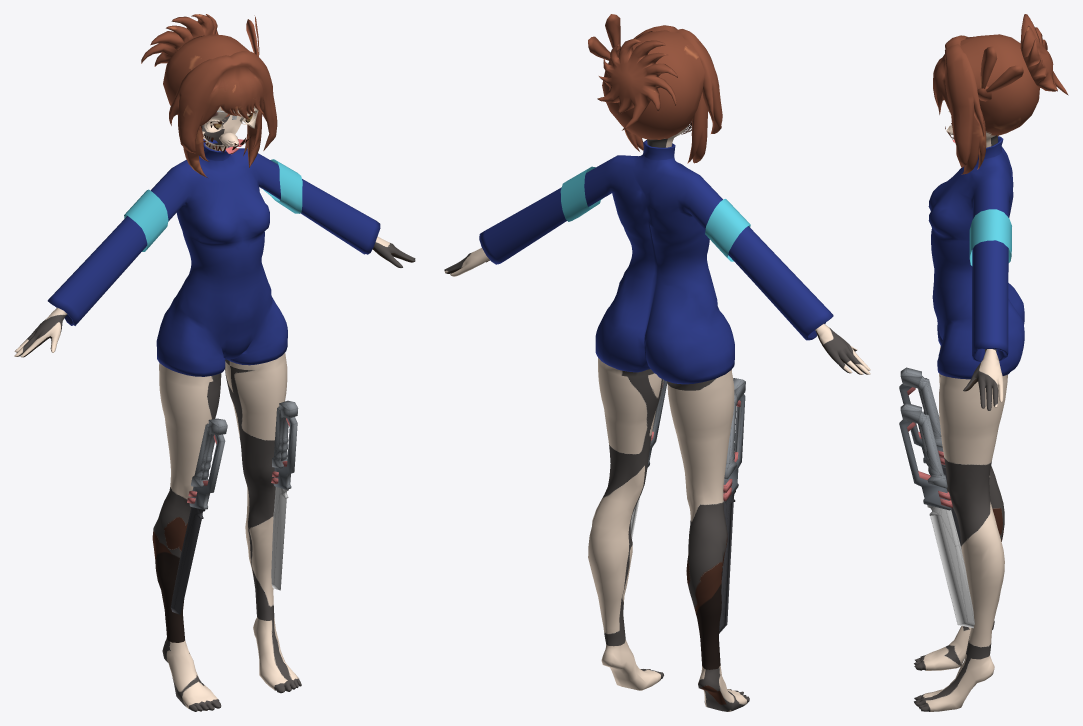
The model's file is Kuro V2 try 3 with clothes.fbx.
3 views of the same model, side by side, from view 1: azimuth 30°, elevation 25°; view 2: azimuth 150°, elevation 25°; view 3: azimuth 270°, elevation 25° (orthographic). The views are drawn at different scales.
Visible parts, largest first — view 1: Kuro_mesh, Clothes_Mesh, Sword_mesh; view 2: Kuro_mesh, Clothes_Mesh, Sword_mesh; view 3: Kuro_mesh, Clothes_Mesh, Sword_mesh.
Part boxes in pixels (x1=…): Kuro_mesh: x1=14, y1=14, x2=415, y2=711; Clothes_Mesh: x1=47, y1=139, x2=380, y2=376; Sword_mesh: x1=170, y1=400, x2=298, y2=614; Kuro_mesh: x1=444, y1=14, x2=870, y2=711; Clothes_Mesh: x1=479, y1=140, x2=833, y2=384; Sword_mesh: x1=630, y1=378, x2=745, y2=633; Kuro_mesh: x1=914, y1=14, x2=1068, y2=711; Clothes_Mesh: x1=928, y1=136, x2=1024, y2=379; Sword_mesh: x1=899, y1=367, x2=974, y2=628.
Bounding box in the file's own units: 91.71 × 142 × 32.93.
